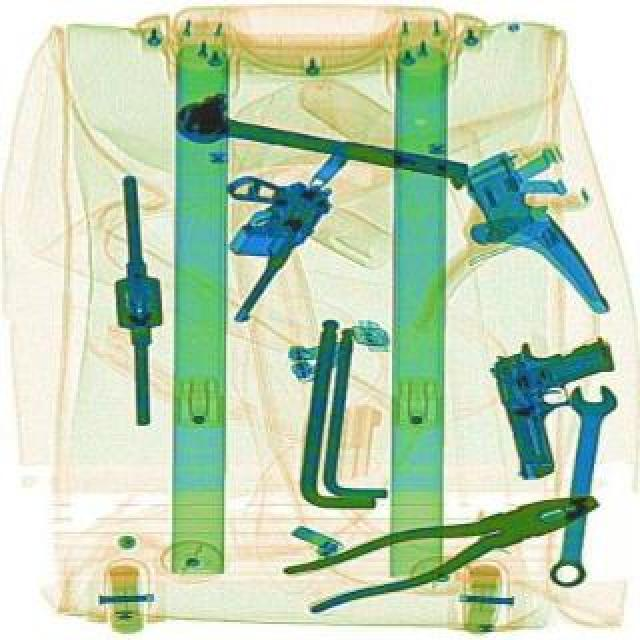gun: (160, 146, 340, 330), (484, 324, 638, 480)
scissors: (536, 382, 618, 590)
wrench: (278, 474, 606, 620)
